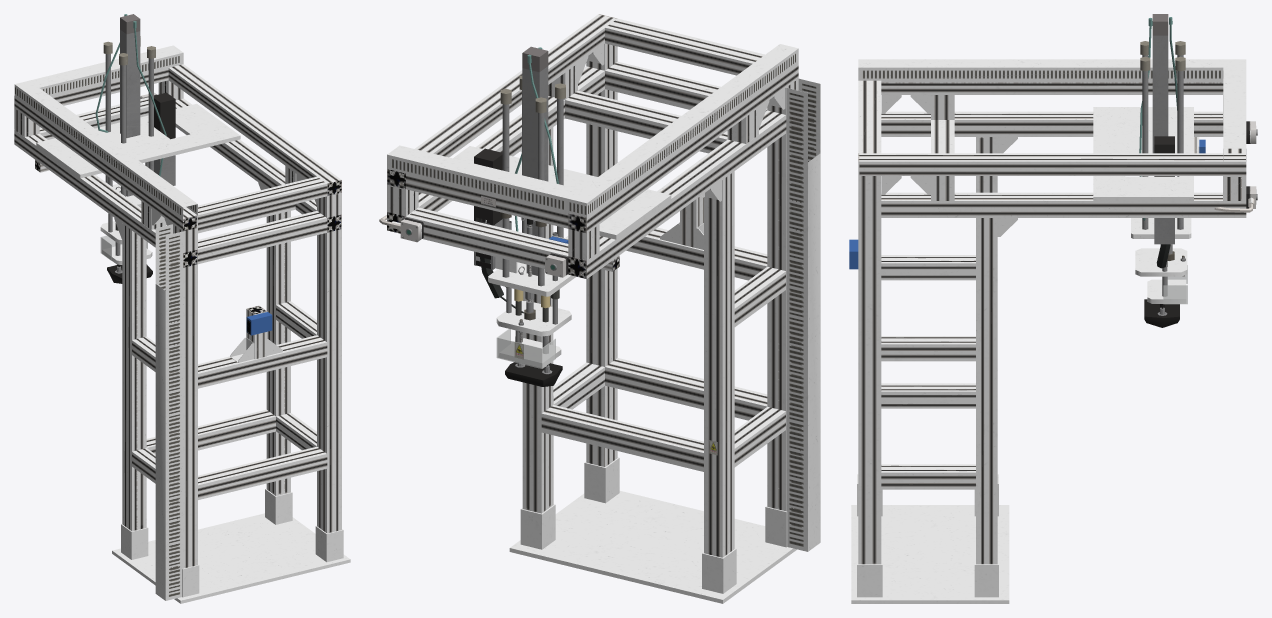
The model's file is anzhuang.FBX.
3 views of the same model, side by side, from view 1: azimuth 30°, elevation 25°; view 2: azimuth 150°, elevation 25°; view 3: azimuth 270°, elevation 25° (orthographic). The views are drawn at different scales.
Parts seen in each view (by area): view 1: YF_Model_anzhuang; view 2: YF_Model_anzhuang; view 3: YF_Model_anzhuang.
Boxes of the visible parts, box(x1,y1,x2,y2) form: YF_Model_anzhuang: box(14, 14, 350, 603); YF_Model_anzhuang: box(379, 14, 820, 603); YF_Model_anzhuang: box(849, 14, 1257, 603).
Bounding box in the file's own units: 103 × 254 × 175.
